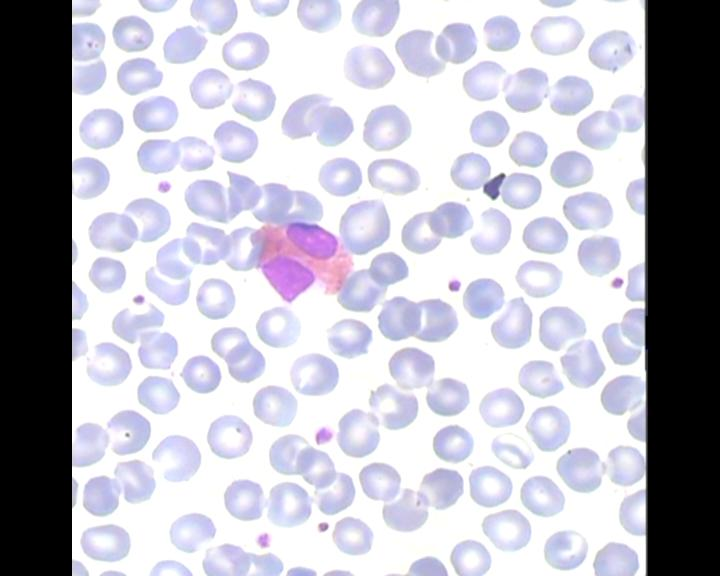eosi: (246, 218, 354, 306)
